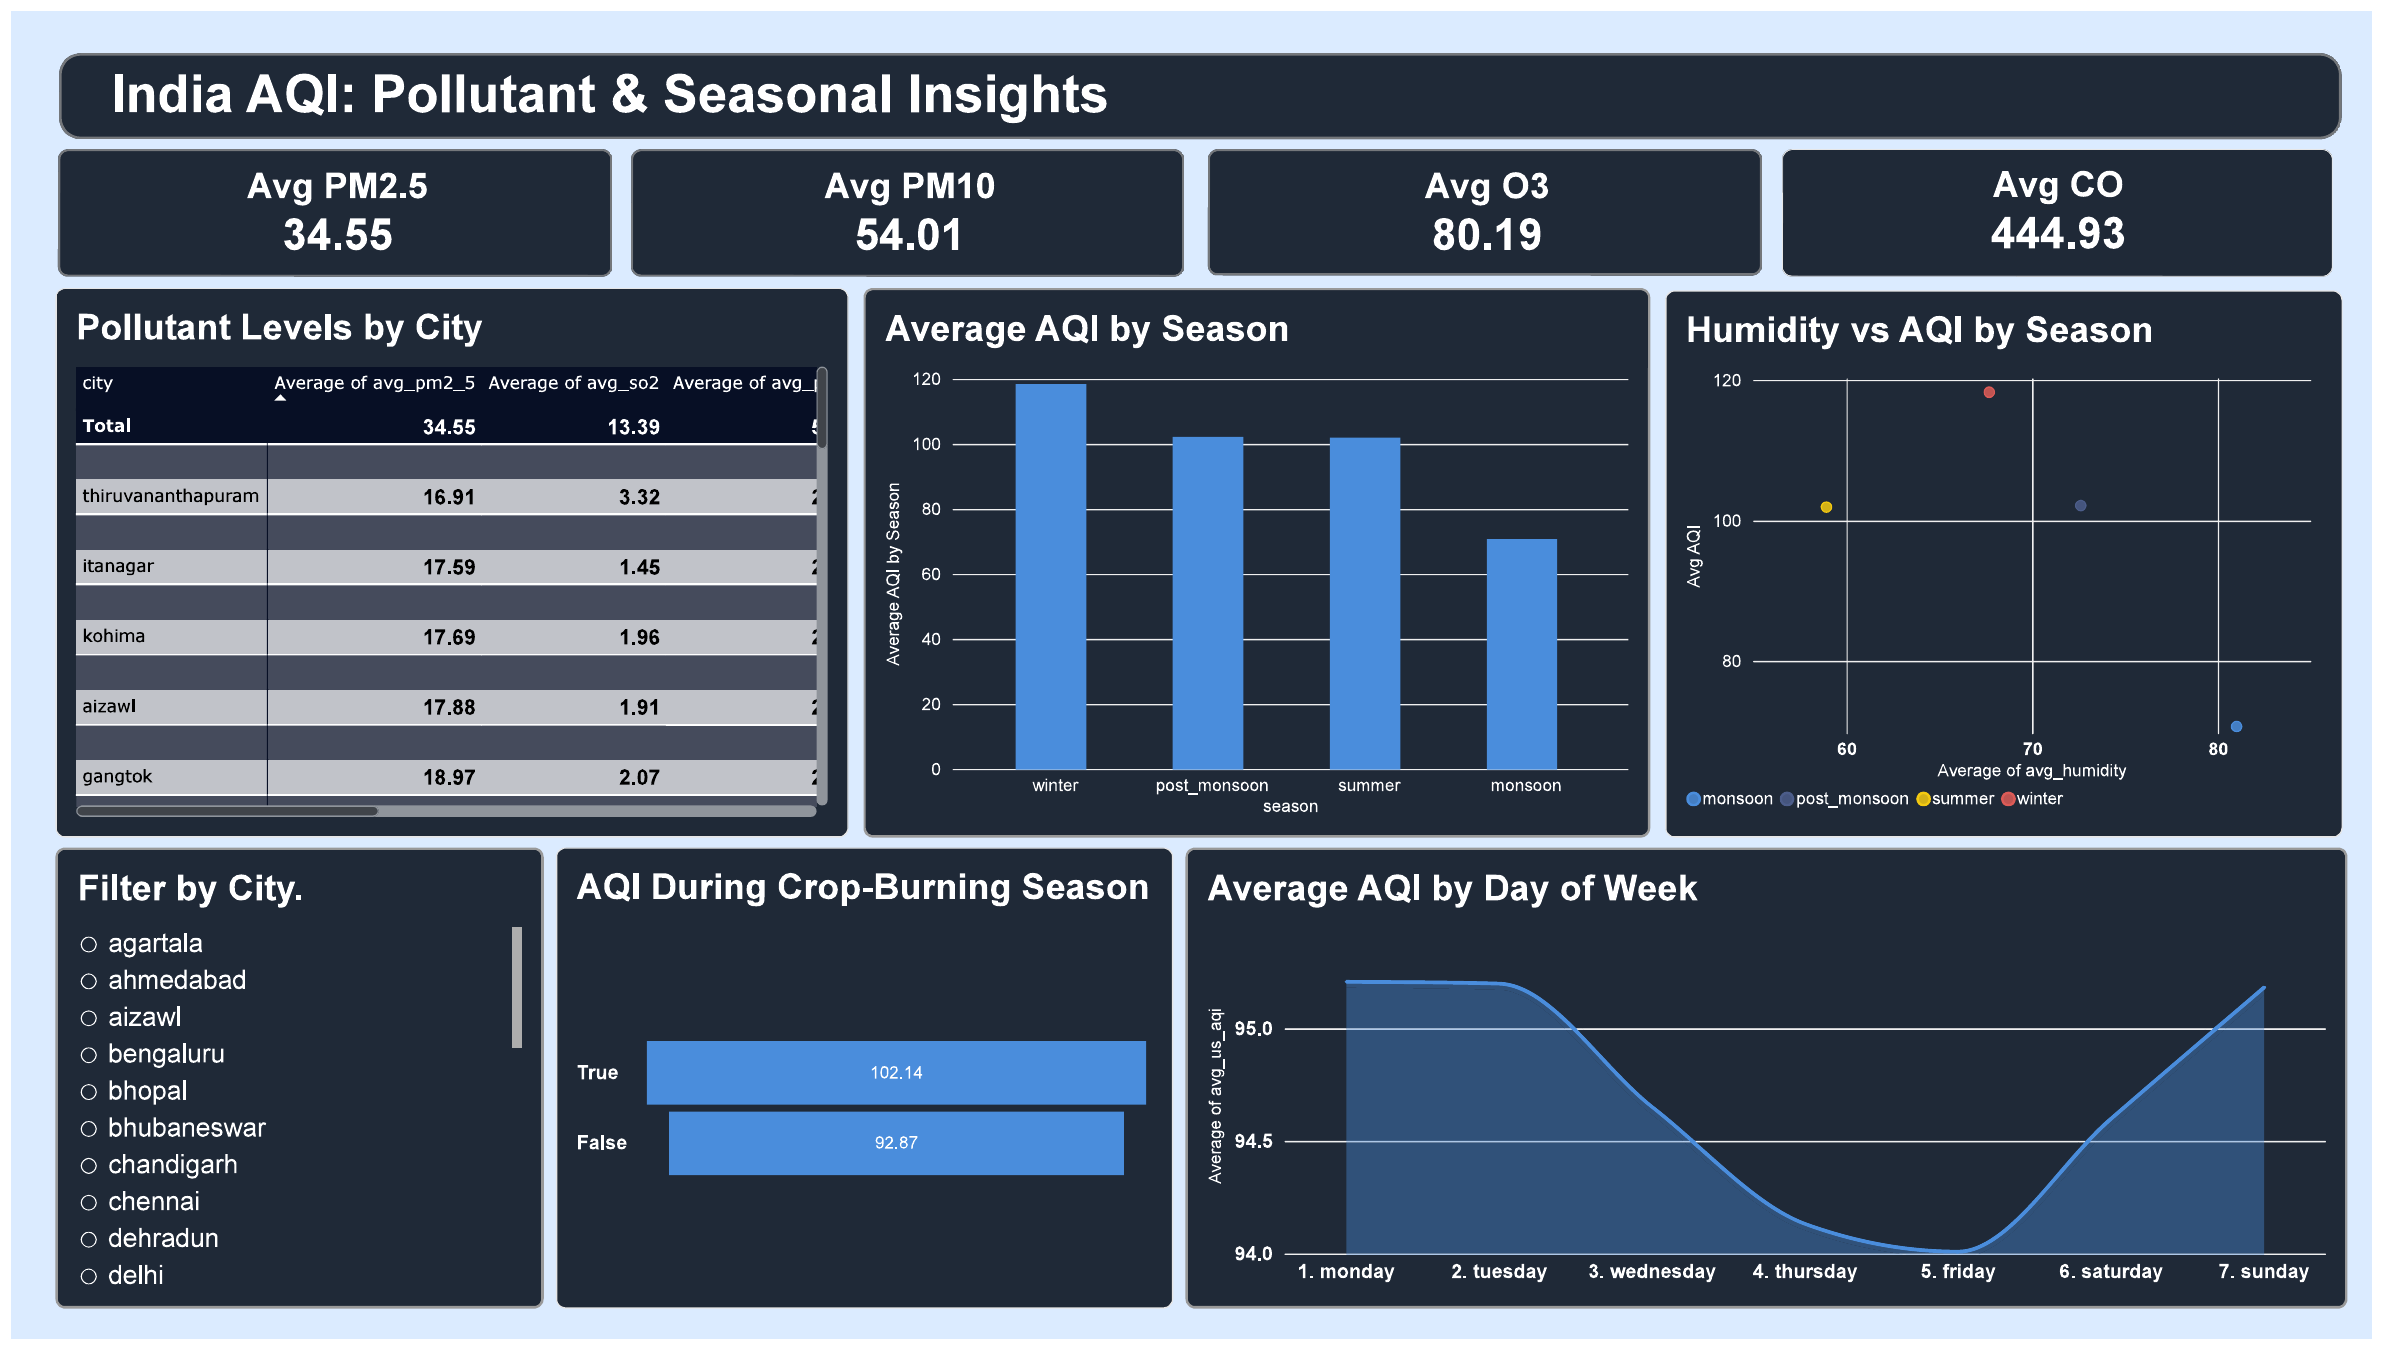

What the dashboard file says about the page in this screenshot:
{"tool":"powerbi","page":{"name":"Page 2","canvas":[1920,1080],"ordinal":1},"visuals":[{"type":"shape","box":[38.8,33.8,1856.2,70],"z":0},{"type":"cardVisual","fields":{"Data":["Avg(AQI_Daily.avg_co)"]},"box":[1439.9,112.7,448.7,103.4],"z":0,"group":"g2"},{"type":"pivotTable","title":"Pollutant Levels by City","fields":{"Rows":["AQI_Daily.city"],"Values":["Avg(AQI_Daily.avg_pm2_5)","Avg(AQI_Daily.avg_so2)","Avg(AQI_Daily.avg_pm10)","Avg(AQI_Daily.avg_o3)","Avg(AQI_Daily.avg_co)","Avg(AQI_Daily.avg_no2)","Avg(AQI_Daily.avg_pm10)"]},"box":[36.2,224.6,644.9,446.9],"z":2000},{"type":"columnChart","title":"Average AQI by Season ","fields":{"Category":["AQI_Daily.season"],"Y":["Avg(AQI_Daily.avg_us_aqi)"]},"box":[693.2,224.6,640.1,446.9],"z":3000},{"type":"cardVisual","fields":{"Data":["Avg(AQI_Daily.avg_o3)"]},"box":[973.5,112.3,450.8,103.1],"z":4000,"group":"g2"},{"type":"listSlicer","fields":{"Values":["AQI_Daily.city"]},"box":[36.4,680,396.4,375.5],"z":4000},{"type":"lineChart","title":"Average AQI by Day of Week","fields":{"Category":["AQI_Daily.Day Label"],"Y":["Avg(AQI_Daily.avg_us_aqi)"]},"box":[955,680,945,375],"z":5000},{"type":"textbox","box":[0,43,974,51],"z":5500},{"type":"funnel","title":"AQI During Crop-Burning Season","fields":{"Category":["AQI_Daily.crop_burning_season"],"Y":["Avg(AQI_Daily.avg_us_aqi)"]},"box":[442.5,680,502.5,375],"z":6000},{"type":"scatterChart","title":"Humidity vs AQI by Season","fields":{"Series":["AQI_Daily.season"],"X":["Avg(AQI_Daily.avg_humidity)"],"Y":["Avg(AQI_Daily.avg_us_aqi)"]},"box":[1345.4,227.1,550.7,444.4],"z":7000},{"type":"group","id":"g1","title":"Group 1","box":[38.3,112.3,1850,102.9],"z":8000},{"type":"cardVisual","fields":{"Data":["Avg(AQI_Daily.avg_pm2_5)"]},"box":[38.3,112.7,450.8,103.1],"z":8000,"group":"g2"},{"type":"cardVisual","fields":{"Data":["Avg(AQI_Daily.avg_pm10)"]},"box":[503.9,112.7,450.8,103.1],"z":9000,"group":"g2"},{"type":"group","id":"g2","title":"Group 2","box":[38.3,112.3,1850.3,103.9],"z":11002,"group":"g1"}]}

Visuals, with their boxes in screenshot pixels (x1, y1, x2, y2), scaled from the page's 1920x1080 canvas onto the 2384x1351 screenshot:
shape: (48, 42, 2353, 130)
cardVisual - Avg(AQI_Daily.avg_co): (1788, 141, 2345, 270)
"Pollutant Levels by City" pivotTable: (45, 281, 846, 840)
"Average AQI by Season " columnChart: (861, 281, 1656, 840)
cardVisual - Avg(AQI_Daily.avg_o3): (1209, 140, 1769, 269)
listSlicer - AQI_Daily.city: (45, 851, 537, 1320)
"Average AQI by Day of Week" lineChart: (1186, 851, 2359, 1320)
textbox: (0, 54, 1209, 118)
"AQI During Crop-Burning Season" funnel: (549, 851, 1173, 1320)
"Humidity vs AQI by Season" scatterChart: (1671, 284, 2354, 840)
"Group 1" group: (48, 140, 2345, 269)
cardVisual - Avg(AQI_Daily.avg_pm2_5): (48, 141, 607, 270)
cardVisual - Avg(AQI_Daily.avg_pm10): (626, 141, 1185, 270)
"Group 2" group: (48, 140, 2345, 270)
